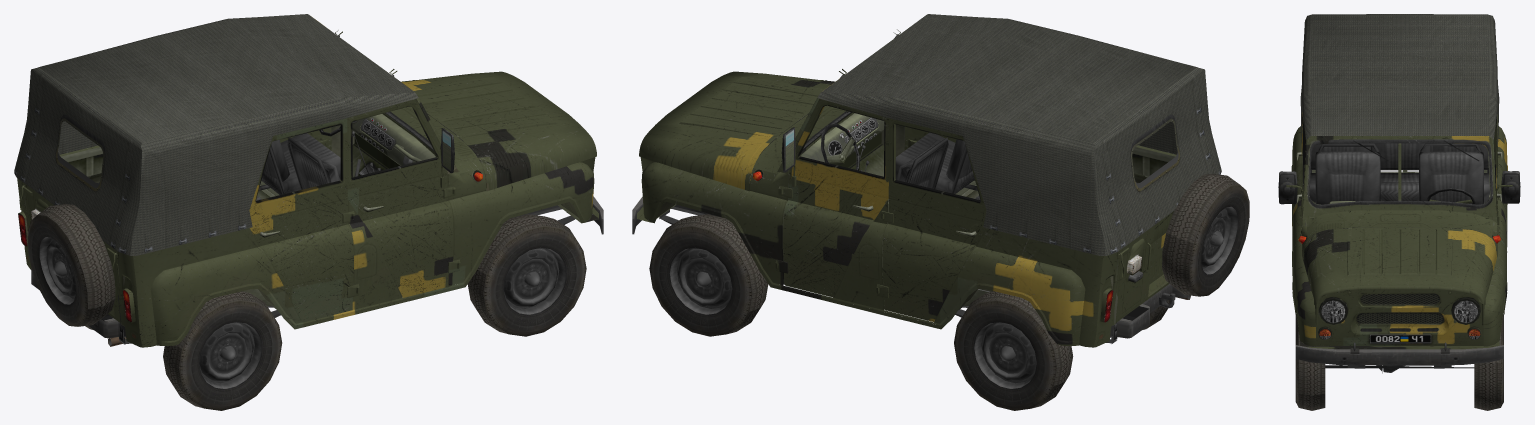
Rendered from ukrainian_uaz-469.glb.
3 renders of one model, left to right at view 1: azimuth 30°, elevation 25°; view 2: azimuth 150°, elevation 25°; view 3: azimuth 270°, elevation 25°, orthographic. The views are drawn at different scales.
Parts seen in each view (by area): view 1: canvas_1, hull_29, hatch2_7, hatch4_9, hullb_10, tire05_21, tire06_25, tire09_4, wheel3_26, wheel_22, gear_5; view 2: canvas_1, hull_29, hatch_6, hatch3_8, hullb_10, tire08_23, tire07_27, tire09_4, wheel4_28, wheel2_24, gear_5; view 3: hull_29, canvas_1, hullb_10, tire05_21, tire08_23, hatch2_7, lens_11, hatch_6, hatch3_8, hatch4_9.
Boxes of the visible parts, x1=… form: canvas_1: x1=14, y1=14, x2=418, y2=255; hull_29: x1=17, y1=16, x2=598, y2=347; hatch2_7: x1=347, y1=99, x2=460, y2=297; hatch4_9: x1=249, y1=118, x2=353, y2=322; hullb_10: x1=22, y1=114, x2=603, y2=346; tire05_21: x1=467, y1=214, x2=586, y2=336; tire06_25: x1=163, y1=291, x2=282, y2=410; tire09_4: x1=27, y1=204, x2=115, y2=326; wheel3_26: x1=199, y1=322, x2=261, y2=388; wheel_22: x1=503, y1=247, x2=566, y2=314; gear_5: x1=39, y1=237, x2=75, y2=304; canvas_1: x1=817, y1=14, x2=1221, y2=255; hull_29: x1=637, y1=15, x2=1176, y2=347; hatch_6: x1=776, y1=99, x2=888, y2=297; hatch3_8: x1=882, y1=118, x2=986, y2=321; hullb_10: x1=632, y1=113, x2=1190, y2=343; tire08_23: x1=649, y1=214, x2=768, y2=336; tire07_27: x1=954, y1=291, x2=1073, y2=410; tire09_4: x1=1162, y1=173, x2=1249, y2=296; wheel4_28: x1=974, y1=322, x2=1036, y2=388; wheel2_24: x1=669, y1=247, x2=732, y2=314; gear_5: x1=1201, y1=206, x2=1237, y2=274; hull_29: x1=1291, y1=114, x2=1507, y2=349; canvas_1: x1=1300, y1=14, x2=1499, y2=141; hullb_10: x1=1293, y1=137, x2=1507, y2=373; tire05_21: x1=1295, y1=314, x2=1325, y2=410; tire08_23: x1=1474, y1=314, x2=1503, y2=410; hatch2_7: x1=1278, y1=119, x2=1309, y2=275; lens_11: x1=1298, y1=235, x2=1500, y2=339; hatch_6: x1=1489, y1=124, x2=1520, y2=251; hatch3_8: x1=1490, y1=116, x2=1507, y2=220; hatch4_9: x1=1292, y1=112, x2=1303, y2=225.
Size of the model in its own units: 4.23 by 2.15 by 2.01.
9 materials, 8 textured.
